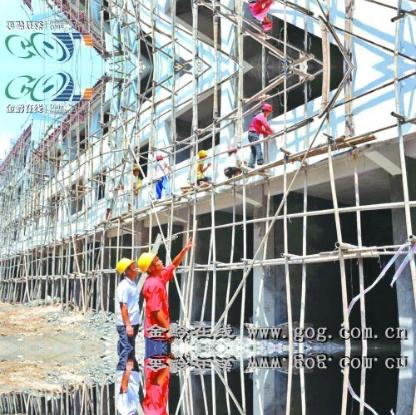Safety Helmet: (138, 249, 167, 280), (115, 255, 143, 284), (258, 95, 274, 117), (197, 147, 210, 165)
